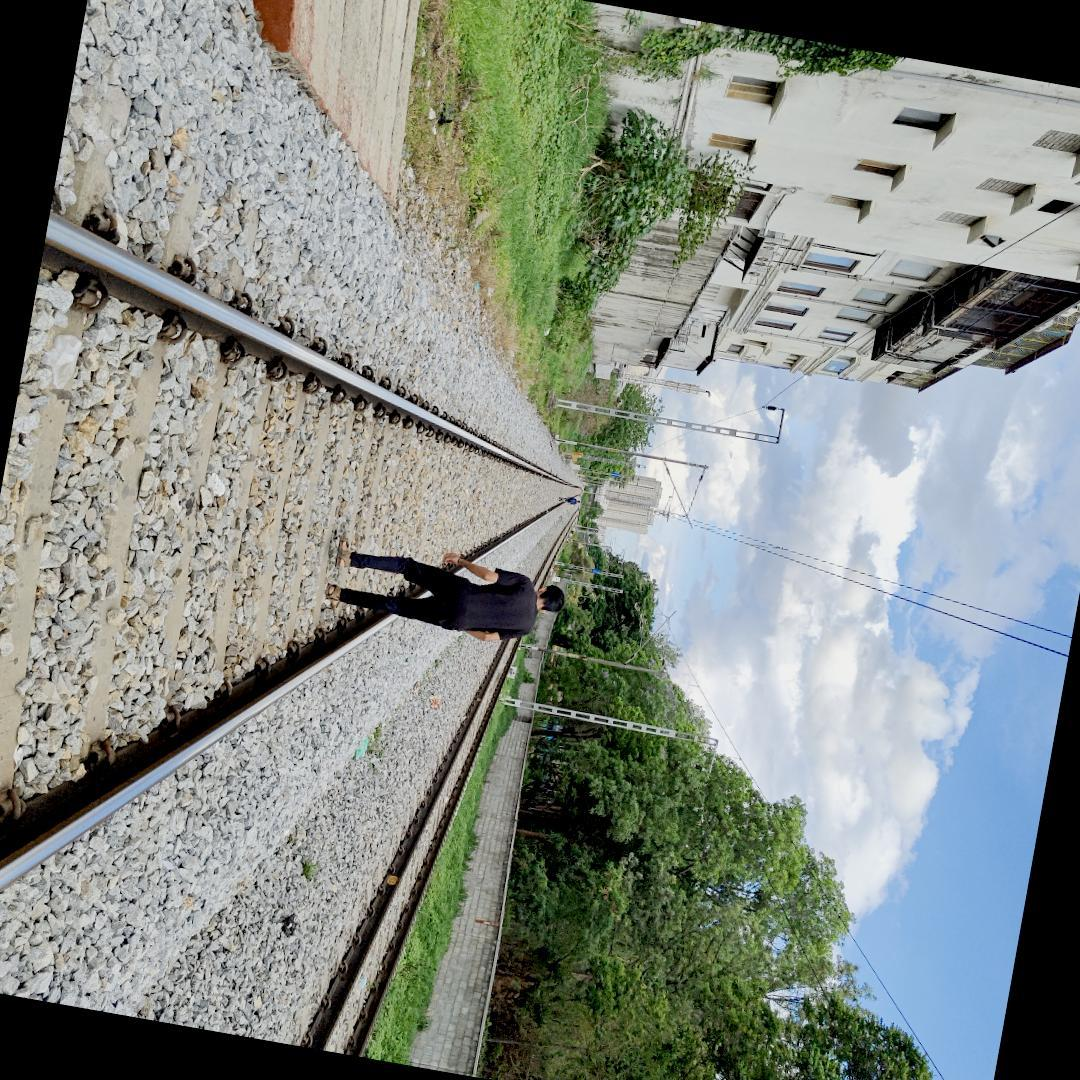standing: (314, 537, 577, 645)
